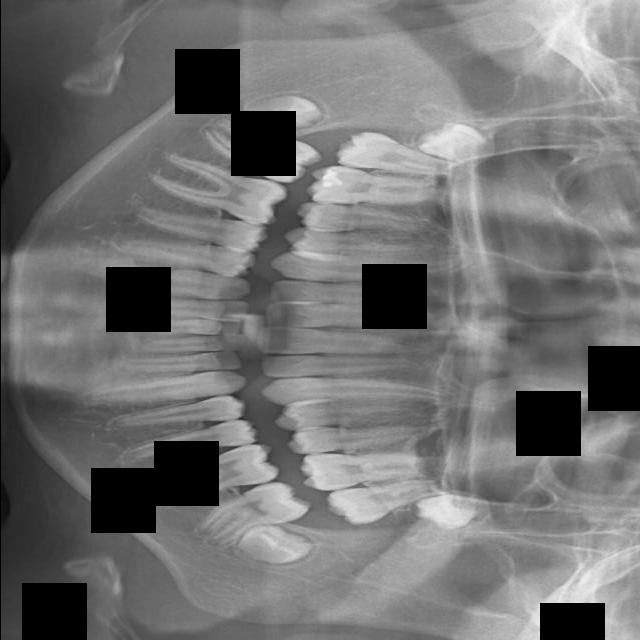3M ESPE Implant: (413, 114, 493, 169)
AGS Medikal Implant: (188, 470, 314, 553)
AMerOss Implant: (135, 438, 283, 512)
Amalgam filling: (333, 127, 462, 181)
Anthogyr Implant: (115, 416, 260, 469)
Bicon Implant: (105, 393, 247, 433)
BioHorizons Implant: (86, 366, 249, 413)
BioLife Implant: (112, 350, 241, 375)
Biomet 3i Implant: (139, 334, 247, 355)
Blue Sky Bio Implant: (150, 319, 241, 335)
Camlog Implant: (140, 297, 250, 323)
Caries: (260, 353, 428, 378)
Composite filling: (88, 255, 254, 306)
Cowellmedi Implant: (114, 228, 257, 279)
Crown: (124, 199, 270, 253)
DENTSPLY Implant: (304, 162, 441, 211)
Dentatus Implant: (146, 149, 290, 229)
Dentis Implant: (194, 111, 324, 192)
Dentium Implant: (243, 87, 326, 141)
Euroteknika Implant: (294, 201, 428, 239)
Filling: (283, 227, 440, 254)
Frontier Implant: (267, 251, 492, 284)
Hiossen Implant: (261, 378, 458, 406)
Implant: (265, 302, 436, 328)
Implant Direct: (268, 280, 425, 305)
Keystone Dental Implant: (253, 326, 423, 355)
MIS Implant: (271, 391, 421, 433)
Mandible: (284, 418, 422, 456)
Maxilla: (298, 451, 422, 492)
Megagen Implant: (323, 474, 451, 530)
Neodent Implant: (411, 489, 481, 537)
Neoss Implant: (235, 519, 316, 569)
